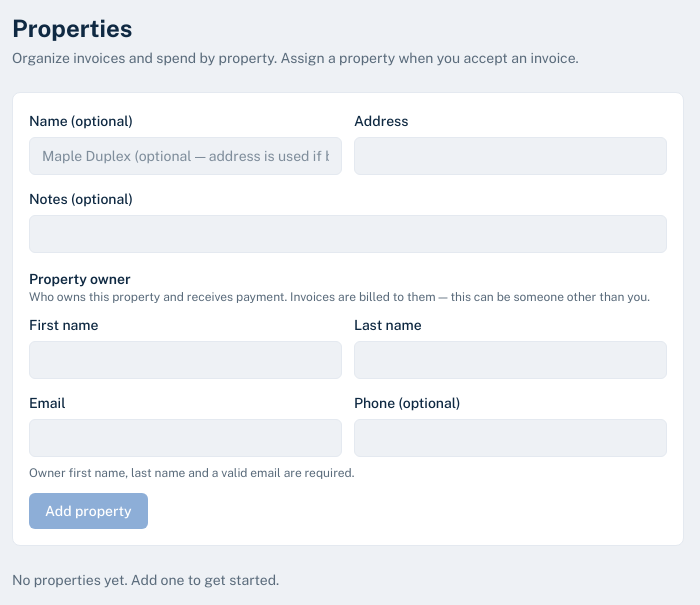
Test: Properties page › requires the owner name and email before a property can be added
In the dropdown labelled "Address": (510, 156) x1=354 y1=137 x2=667 y2=175, type "9 Lake Rd"
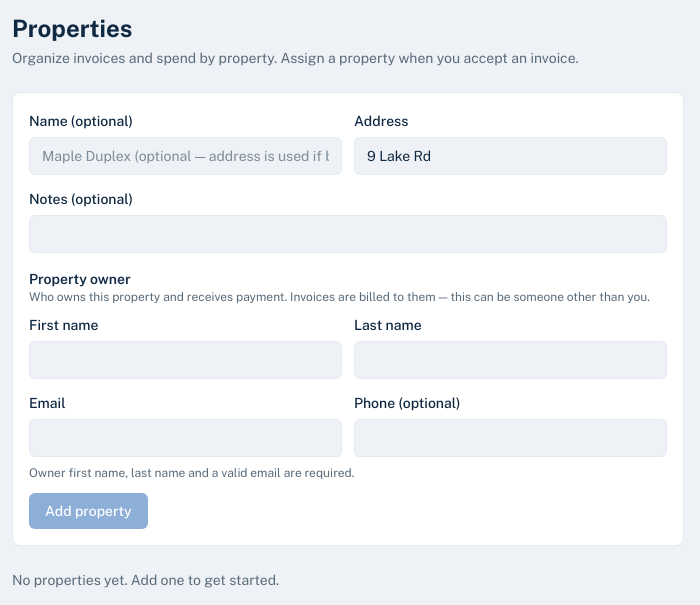
Expected: the button "Add property" is disabled, x1=29 y1=493 x2=148 y2=529
In the field labelled "First name": (186, 360) x1=29 y1=341 x2=342 y2=379, type "Olive"
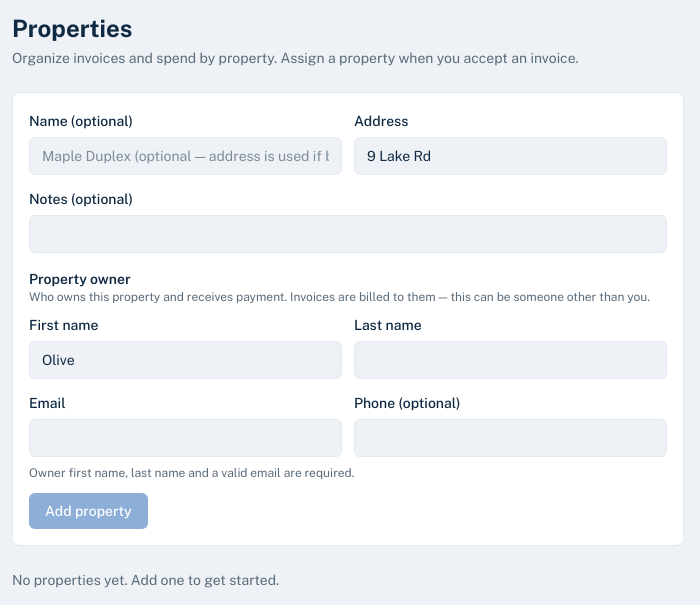
In the field labelled "Last name": (510, 360) x1=354 y1=341 x2=667 y2=379, type "Owner"
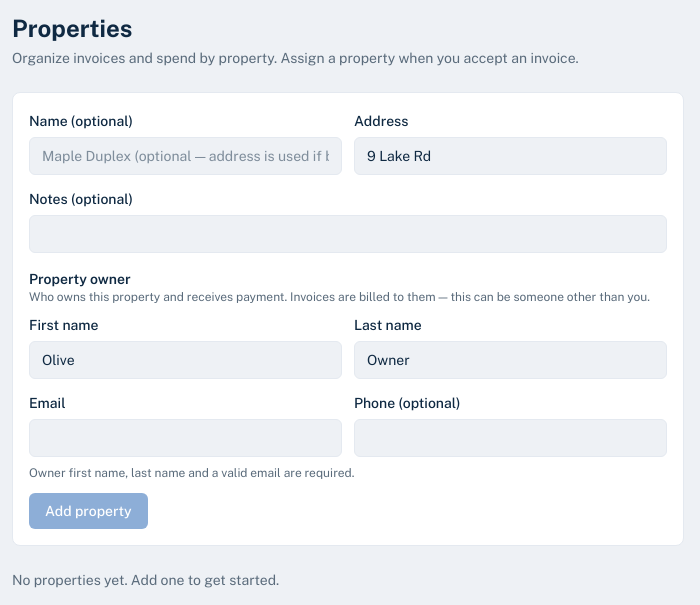
Expected: the button "Add property" is disabled, x1=29 y1=493 x2=148 y2=529
In the field labelled "Email": (186, 438) x1=29 y1=419 x2=342 y2=457, type "olive@example.com"
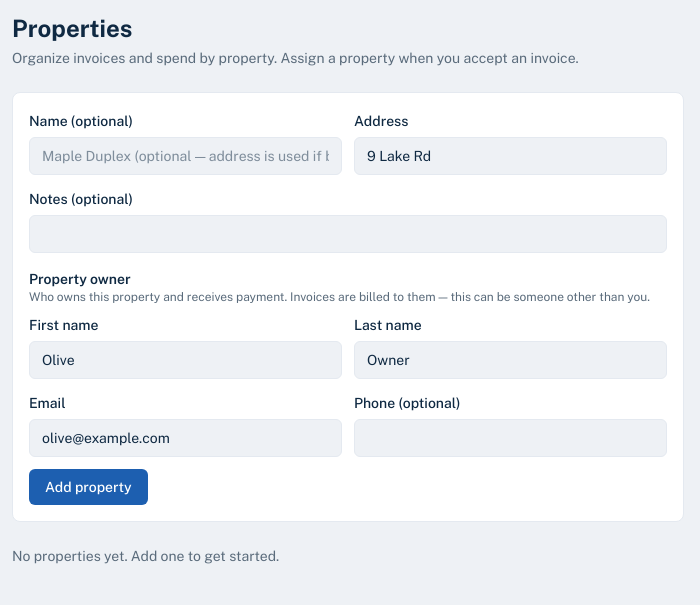
Expected: the button "Add property" is enabled, x1=29 y1=469 x2=148 y2=505
